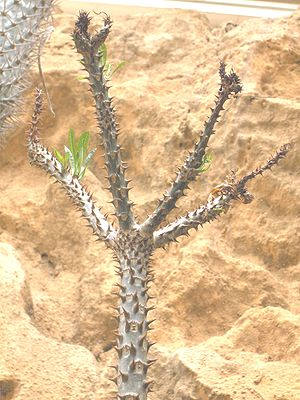Pachypodium meridionale: (53, 35, 238, 399)
